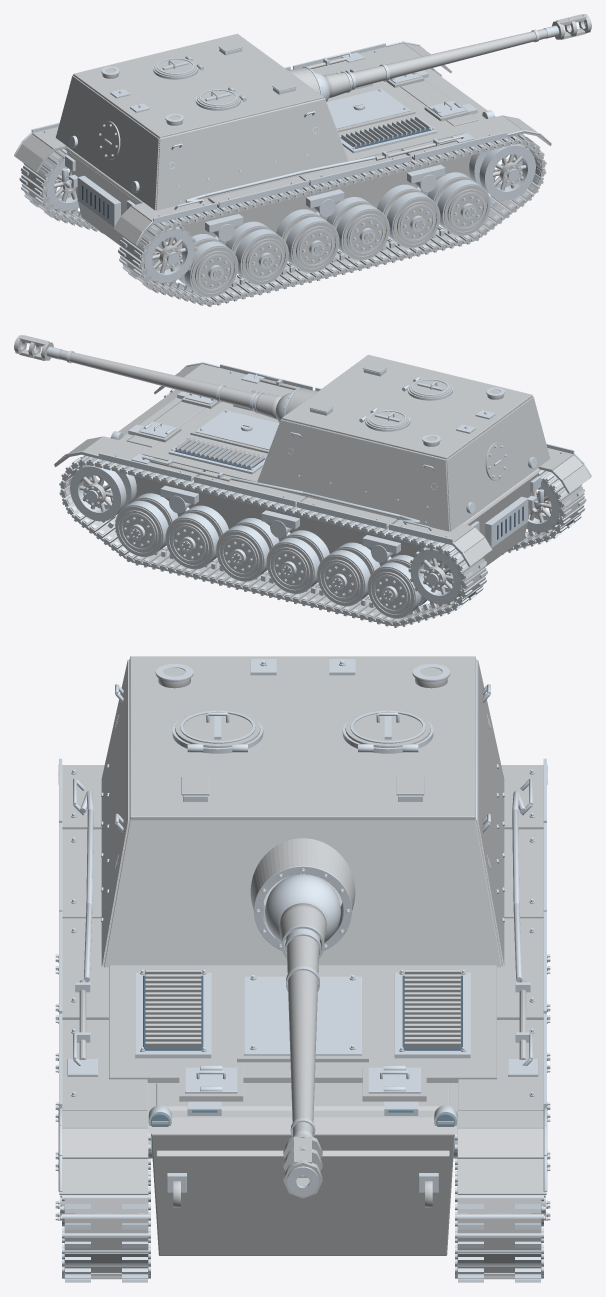
The model's file is ferdinand_vehicle.glb.
3 views of the same model, one above another, from view 1: azimuth 30°, elevation 25°; view 2: azimuth 150°, elevation 25°; view 3: azimuth 270°, elevation 25° (orthographic). The views are drawn at different scales.
Visible parts, largest first — view 1: CASEMATE_L, CASEMATE_ROOF, TRACKS_L, FENDERS_AND_TOOLS, ENGINE_DECK, CASEMATE_REAR, HULL_LOWER, GUN_BARREL, ROAD_WHEEL_L_04_MESH, ROAD_WHEEL_L_02_MESH, ROAD_WHEEL_L_05_MESH, FRONT_IDLER_L_MESH (+19 smaller); view 2: CASEMATE_R, CASEMATE_ROOF, TRACKS_R, FENDERS_AND_TOOLS, ENGINE_DECK, CASEMATE_REAR, HULL_LOWER, GUN_BARREL, ROAD_WHEEL_R_04_MESH, ROAD_WHEEL_R_02_MESH, ROAD_WHEEL_R_05_MESH, FRONT_IDLER_R_MESH (+19 smaller); view 3: CASEMATE_ROOF, ENGINE_DECK, CASEMATE_FRONT, FENDERS_AND_TOOLS, HULL_LOWER, GUN_BARREL, TRACKS_L, TRACKS_R, FENDER_FRONT_L, FENDER_FRONT_R, HULL_SPONSONS, DRIVER_NOSE (+7 smaller).
Part boxes in pixels (x1,y1,x2,y2): CASEMATE_L: [156, 99, 347, 210]; CASEMATE_ROOF: [73, 33, 323, 138]; TRACKS_L: [118, 134, 546, 306]; FENDERS_AND_TOOLS: [31, 43, 507, 223]; ENGINE_DECK: [320, 62, 477, 160]; CASEMATE_REAR: [55, 75, 159, 210]; HULL_LOWER: [67, 151, 471, 262]; GUN_BARREL: [347, 14, 591, 90]; ROAD_WHEEL_L_04_MESH: [377, 184, 440, 248]; ROAD_WHEEL_L_02_MESH: [276, 209, 339, 272]; ROAD_WHEEL_L_05_MESH: [427, 172, 490, 235]; FRONT_IDLER_L_MESH: [469, 143, 535, 200]; CASEMATE_R: [258, 420, 449, 531]; CASEMATE_ROOF: [282, 354, 532, 459]; TRACKS_R: [59, 455, 487, 627]; FENDERS_AND_TOOLS: [98, 364, 574, 544]; ENGINE_DECK: [128, 383, 285, 481]; CASEMATE_REAR: [446, 396, 550, 531]; HULL_LOWER: [134, 472, 538, 583]; GUN_BARREL: [14, 335, 258, 411]; ROAD_WHEEL_R_04_MESH: [165, 505, 228, 569]; ROAD_WHEEL_R_02_MESH: [266, 530, 329, 593]; ROAD_WHEEL_R_05_MESH: [115, 493, 178, 556]; FRONT_IDLER_R_MESH: [70, 464, 136, 521]; CASEMATE_ROOF: [130, 656, 475, 820]; ENGINE_DECK: [109, 965, 496, 1115]; CASEMATE_FRONT: [104, 820, 501, 967]; FENDERS_AND_TOOLS: [59, 758, 546, 1207]; HULL_LOWER: [151, 1133, 454, 1255]; GUN_BARREL: [283, 928, 322, 1198]; TRACKS_L: [62, 1134, 150, 1282]; TRACKS_R: [455, 1134, 543, 1282]; FENDER_FRONT_L: [58, 1108, 148, 1194]; FENDER_FRONT_R: [457, 1108, 547, 1194]; HULL_SPONSONS: [147, 874, 458, 1133]; DRIVER_NOSE: [156, 1083, 449, 1156].
Size of the model in its own units: 9.05 by 2.97 by 3.77.
